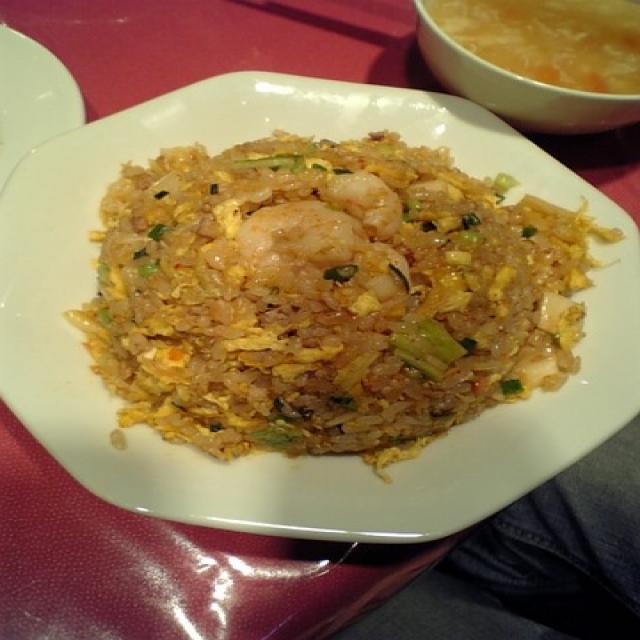米饭主食: (59, 140, 615, 448)
